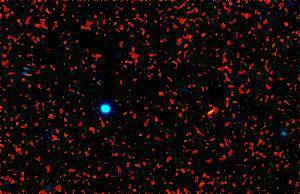star: (195, 96, 225, 126)
